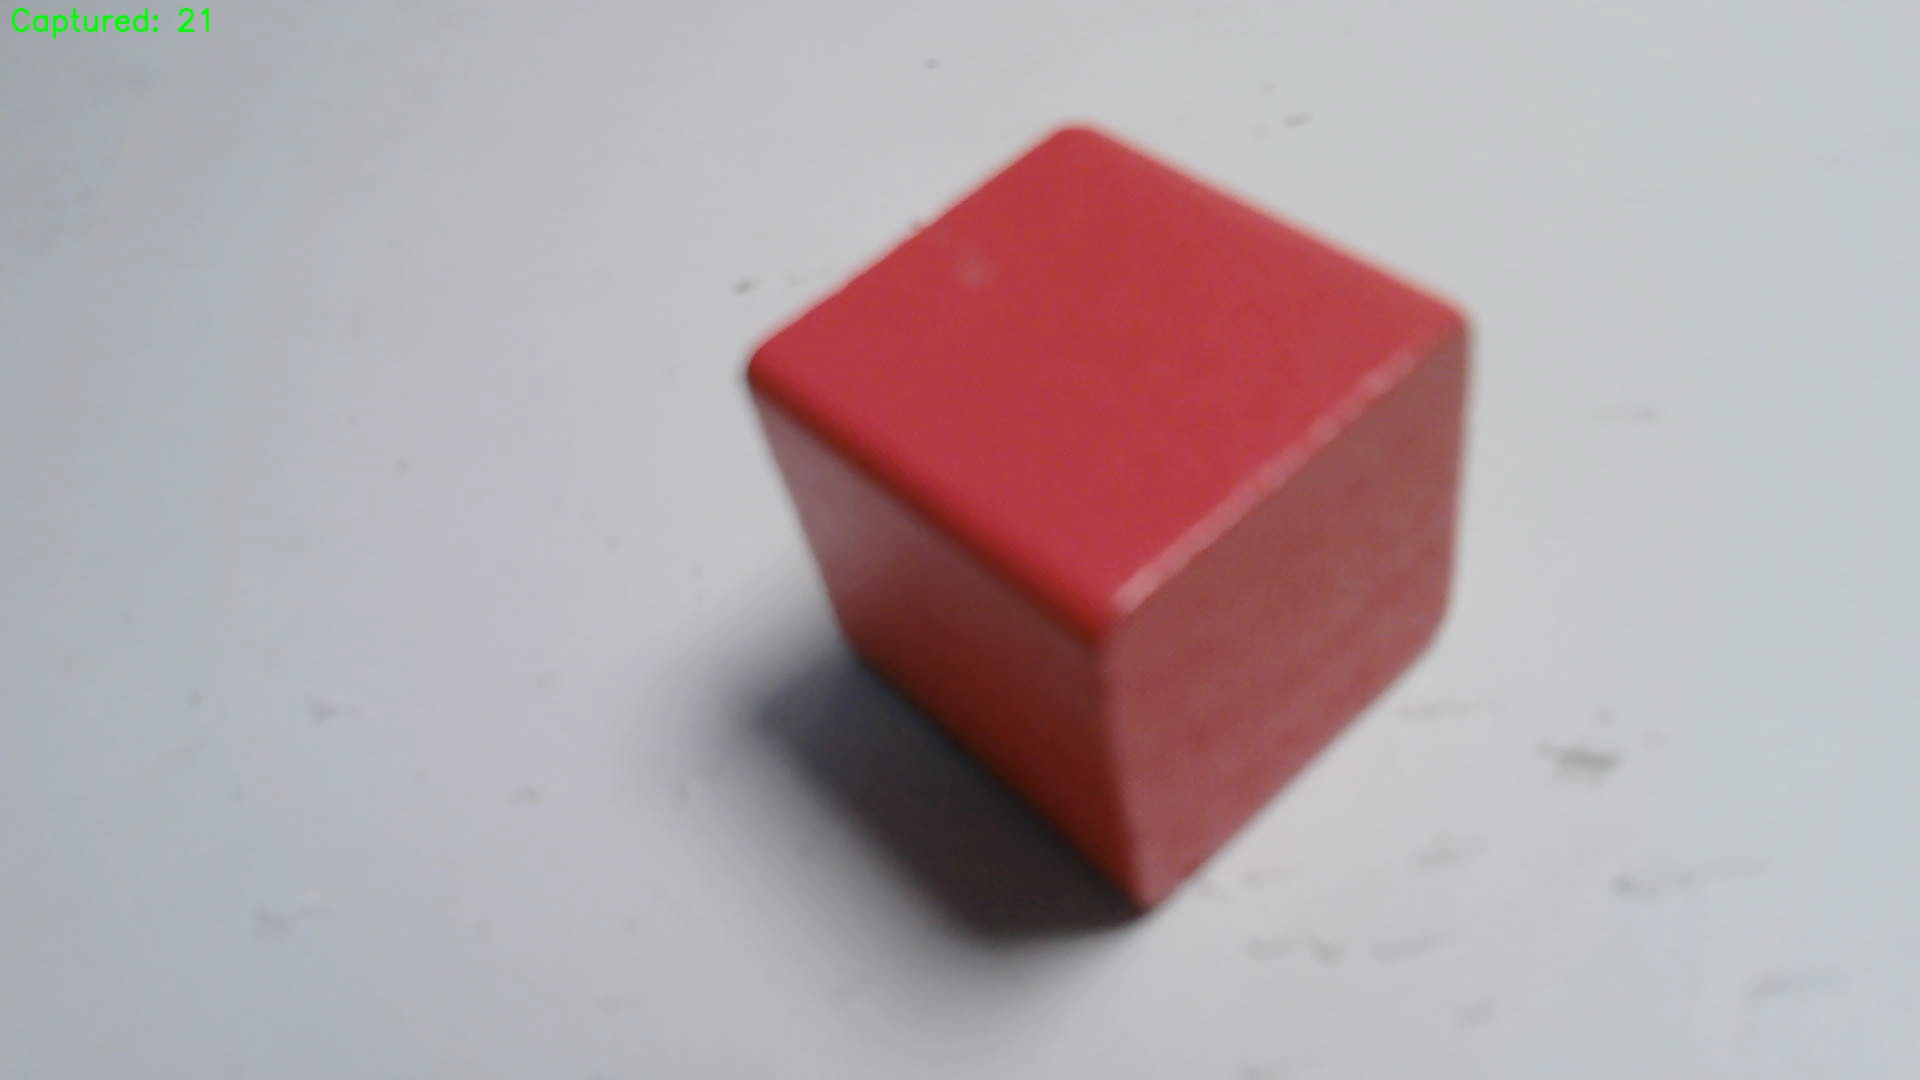red: (745, 124, 1469, 918)
